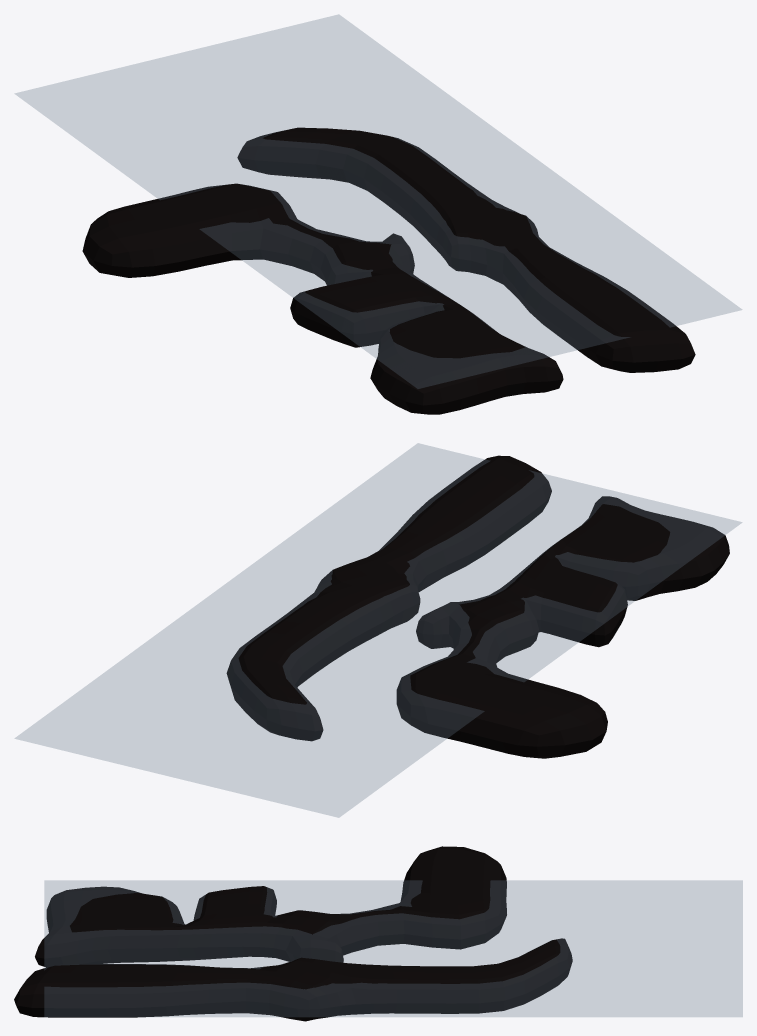
Rendered from Water_Land.fbx.
The picture shows the model from 3 angles, top to bottom: view 1: azimuth 30°, elevation 25°; view 2: azimuth 150°, elevation 25°; view 3: azimuth 270°, elevation 25°; orthographic projection. The views are drawn at different scales.
Visible parts, largest first — view 1: Deep Water.007, Plane.358, Plane.374; view 2: Deep Water.007, Plane.358, Plane.374; view 3: Deep Water.007, Plane.358, Plane.374.
Part boxes in pixels (bbox=[...]): Deep Water.007: bbox=[15, 14, 741, 388]; Plane.358: bbox=[82, 183, 563, 414]; Plane.374: bbox=[237, 127, 695, 372]; Deep Water.007: bbox=[15, 443, 741, 817]; Plane.358: bbox=[396, 496, 729, 758]; Plane.374: bbox=[226, 455, 551, 741]; Deep Water.007: bbox=[44, 880, 742, 1016]; Plane.358: bbox=[35, 846, 506, 967]; Plane.374: bbox=[14, 938, 572, 1021].
Bounding box in the file's own units: 267 × 27.16 × 464.
